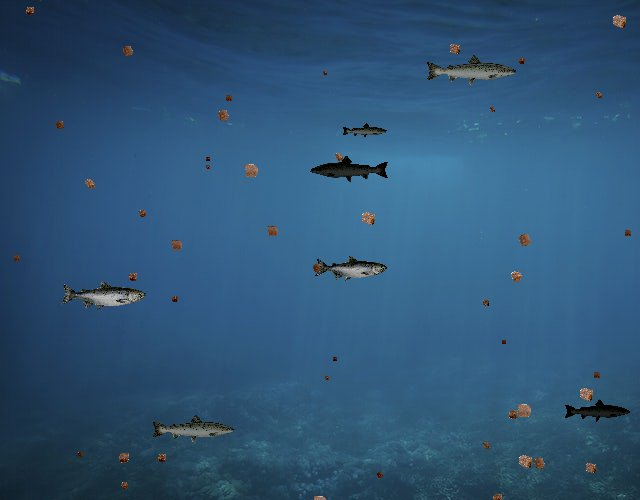Fish: (425, 53, 519, 87), (150, 413, 236, 444), (60, 280, 146, 311), (310, 154, 391, 183), (314, 256, 387, 282), (563, 399, 631, 423), (341, 122, 388, 139)
Pellet: (512, 227, 538, 253), (504, 264, 529, 289), (78, 173, 100, 195), (478, 296, 492, 310), (514, 54, 528, 68), (202, 162, 212, 172)
